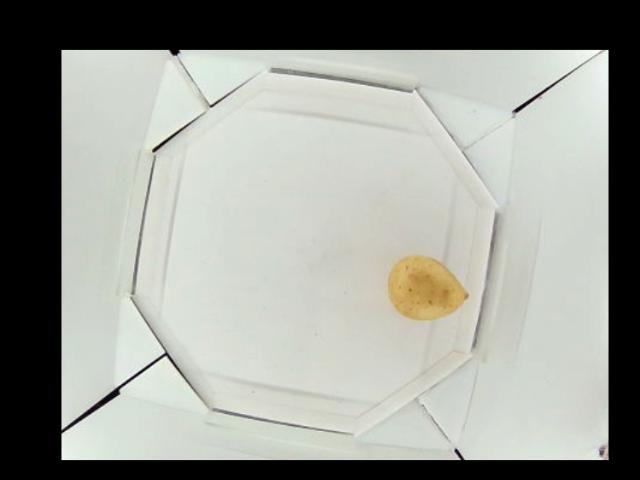Potato: (387, 255, 470, 322)
